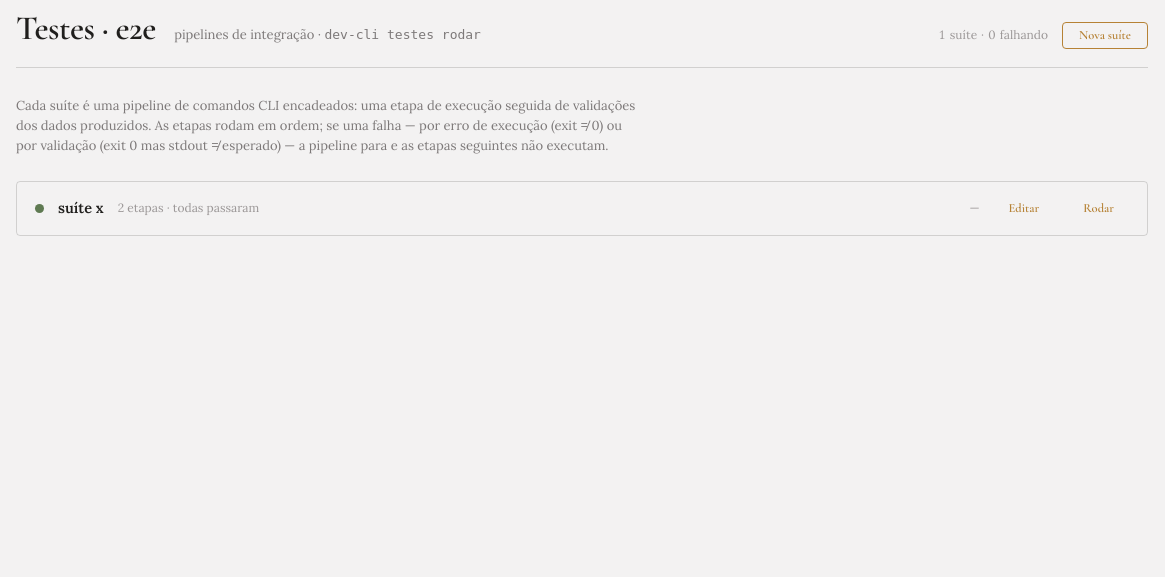
it: Testes › polling: o estado da execução em andamento atualiza a UI
Expected: the text "suíte x" is shown, [58,197,104,219]
Click the button "Rodar".
click(1099, 208)  # box [1068,196,1129,221]
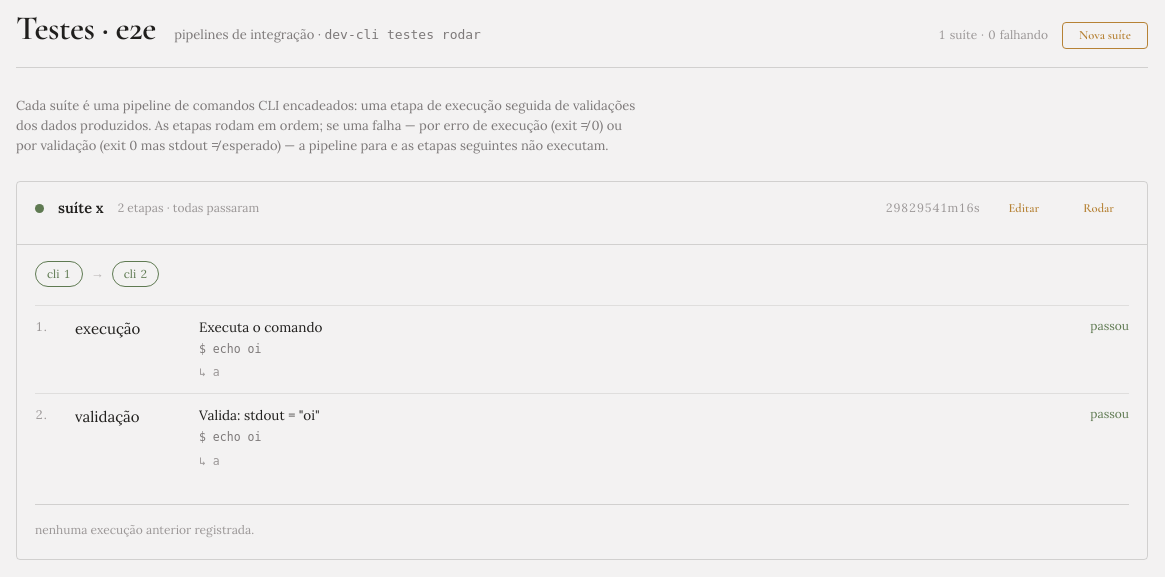
Now the text "passou" is shown 2 times, box [1090,318,1129,333]; [1090,406,1129,421]
